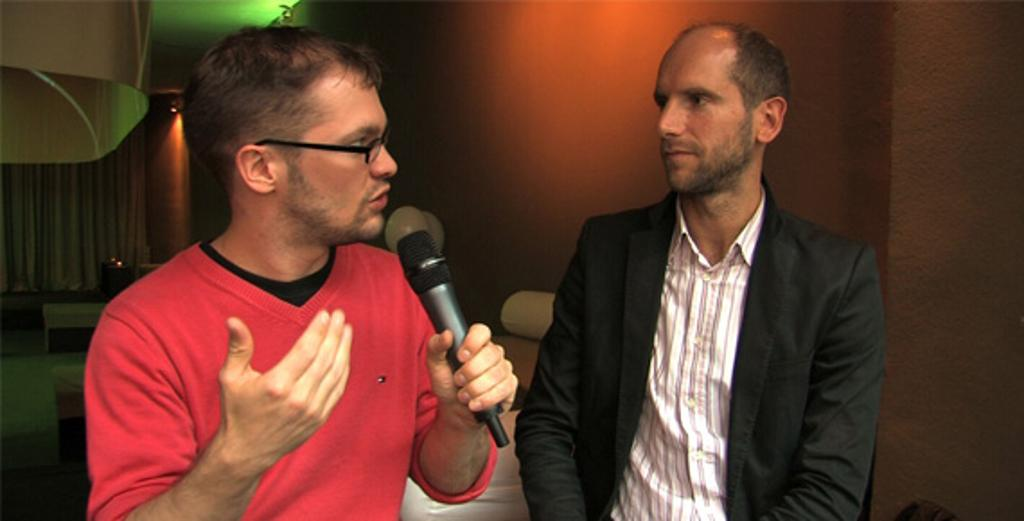face: (288, 76, 396, 236), (652, 40, 744, 200)
